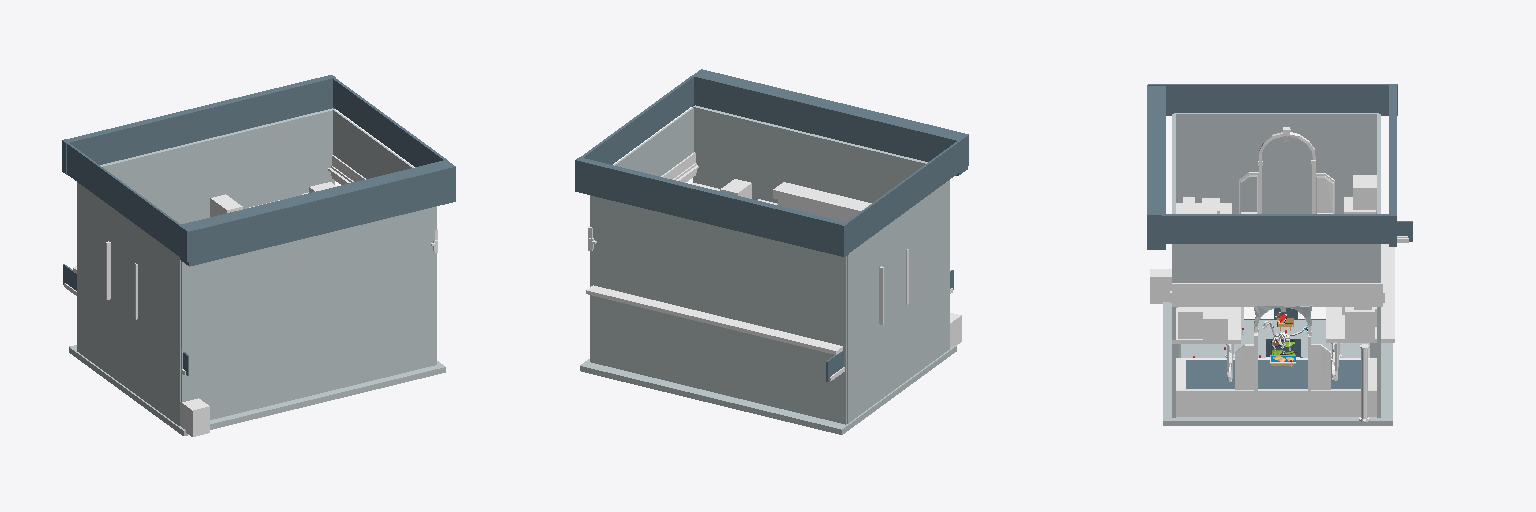
File: Museum.obj
3 views of the same model, side by side, from view 1: azimuth 30°, elevation 25°; view 2: azimuth 150°, elevation 25°; view 3: azimuth 270°, elevation 25° (orthographic).
Parts seen in each view (by area): view 1: mesh[number redacted], mesh[number redacted], mesh[number redacted], mesh[number redacted], mesh[number redacted], mesh[number redacted], mesh[number redacted], mesh[number redacted], mesh[number redacted], mesh[number redacted]; view 2: mesh[number redacted], mesh[number redacted], mesh[number redacted], mesh[number redacted], mesh[number redacted], mesh[number redacted], mesh[number redacted], mesh[number redacted], mesh[number redacted], mesh[number redacted], mesh[number redacted]; view 3: mesh[number redacted], mesh[number redacted], mesh[number redacted], mesh[number redacted], mesh[number redacted], mesh[number redacted], mesh[number redacted], mesh[number redacted], mesh[number redacted], mesh[number redacted], mesh[number redacted], mesh[number redacted] (+11 smaller).
Boxes of the visible parts, x1=… form: mesh[number redacted]: x1=181, y1=206, x2=436, y2=419; mesh[number redacted]: x1=77, y1=182, x2=180, y2=425; mesh[number redacted]: x1=100, y1=108, x2=334, y2=223; mesh[number redacted]: x1=180, y1=160, x2=455, y2=266; mesh[number redacted]: x1=62, y1=75, x2=335, y2=174; mesh[number redacted]: x1=64, y1=139, x2=188, y2=261; mesh[number redacted]: x1=69, y1=345, x2=445, y2=435; mesh[number redacted]: x1=333, y1=78, x2=447, y2=166; mesh[number redacted]: x1=333, y1=109, x2=413, y2=178; mesh[number redacted]: x1=180, y1=398, x2=209, y2=436; mesh[number redacted]: x1=590, y1=195, x2=846, y2=424; mesh[number redacted]: x1=847, y1=180, x2=949, y2=423; mesh[number redacted]: x1=693, y1=105, x2=927, y2=203; mesh[number redacted]: x1=575, y1=157, x2=848, y2=256; mesh[number redacted]: x1=692, y1=69, x2=967, y2=175; mesh[number redacted]: x1=842, y1=134, x2=968, y2=256; mesh[number redacted]: x1=580, y1=345, x2=956, y2=434; mesh[number redacted]: x1=581, y1=75, x2=694, y2=164; mesh[number redacted]: x1=586, y1=285, x2=842, y2=354; mesh[number redacted]: x1=614, y1=107, x2=693, y2=176; mesh[number redacted]: x1=773, y1=182, x2=871, y2=217; mesh[number redacted]: x1=1174, y1=113, x2=1378, y2=213; mesh[number redacted]: x1=1176, y1=355, x2=1376, y2=416; mesh[number redacted]: x1=1173, y1=244, x2=1378, y2=282; mesh[number redacted]: x1=1162, y1=214, x2=1388, y2=243; mesh[number redacted]: x1=1148, y1=84, x2=1397, y2=115; mesh[number redacted]: x1=1163, y1=302, x2=1392, y2=425; mesh[number redacted]: x1=1172, y1=282, x2=1382, y2=306; mesh[number redacted]: x1=1147, y1=85, x2=1165, y2=249; mesh[number redacted]: x1=1235, y1=308, x2=1330, y2=392; mesh[number redacted]: x1=1326, y1=244, x2=1394, y2=342; mesh[number redacted]: x1=1239, y1=127, x2=1334, y2=213; mesh[number redacted]: x1=1389, y1=84, x2=1396, y2=246.
Bounding box in the file's own units: 9.61 × 7.19 × 8.2.